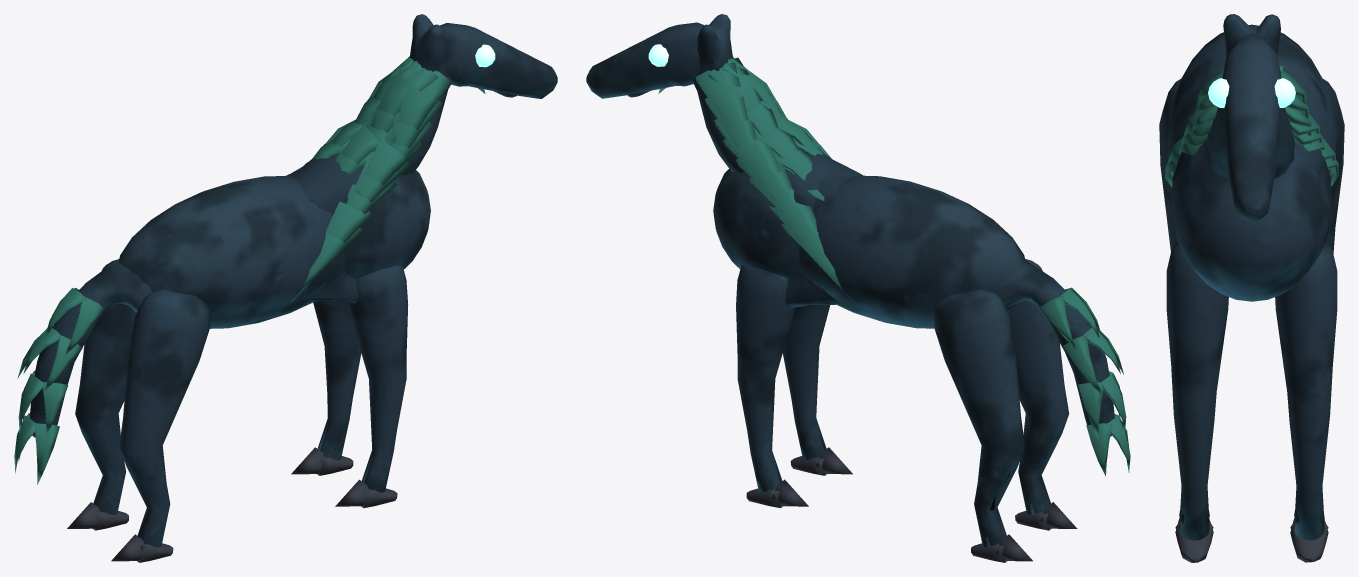
File: kelpie.glb
3 renders of one model, left to right at view 1: azimuth 30°, elevation 25°; view 2: azimuth 150°, elevation 25°; view 3: azimuth 270°, elevation 25°, orthographic. The views are drawn at different scales.
Visible parts, largest first — view 1: kelpie.001; view 2: kelpie.001; view 3: kelpie.001.
Boxes of the visible parts, bbox=[...] form: kelpie.001: bbox=[14, 14, 557, 562]; kelpie.001: bbox=[586, 14, 1130, 562]; kelpie.001: bbox=[1159, 14, 1344, 562].
Size of the model in its own units: 2.12 by 1.68 by 0.484.
Materials: 4 (1 with a texture image).
